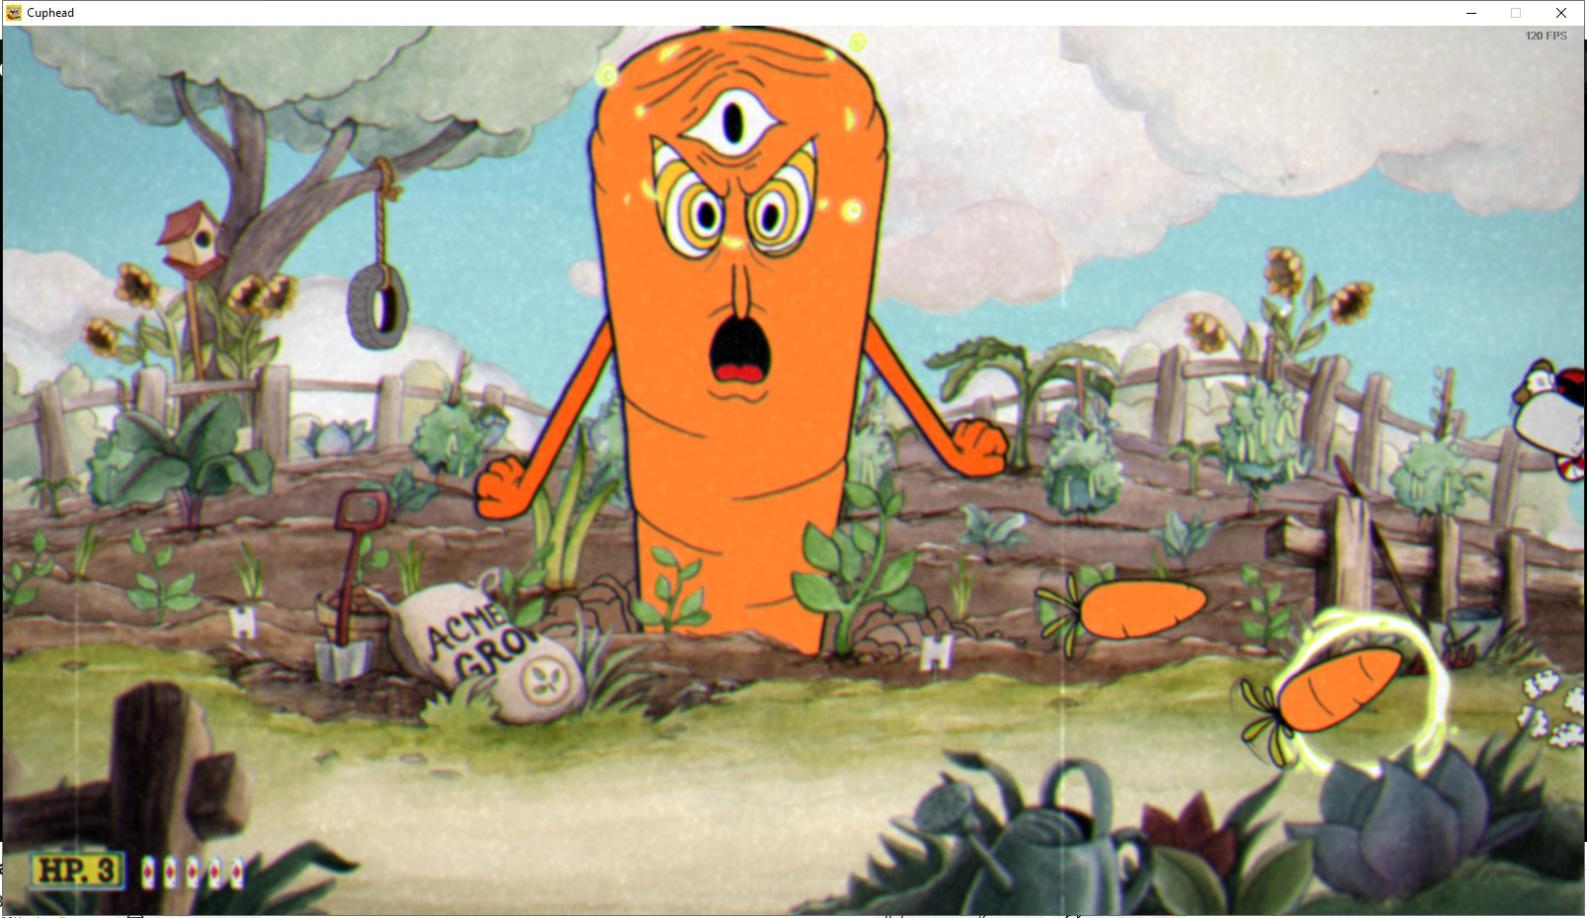carrot: (1240, 637, 1412, 772), (1029, 568, 1218, 662)
hp3: (92, 853, 124, 890)
player: (1495, 346, 1587, 486)
ring: (1265, 593, 1467, 796)
